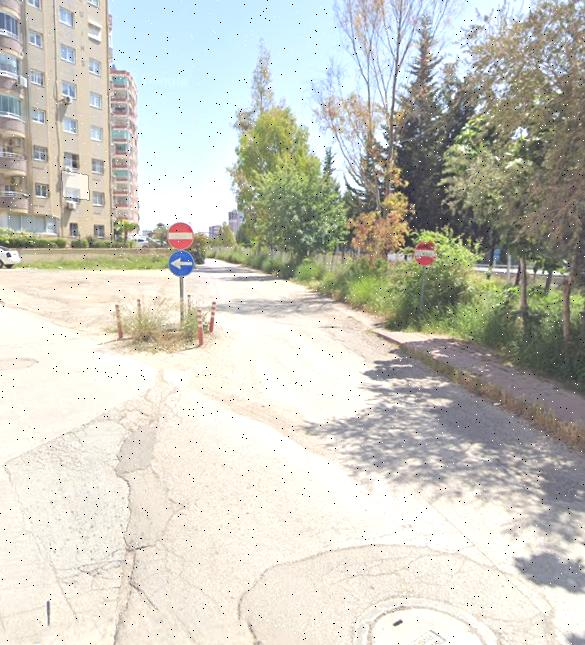turnleft: (167, 252, 194, 278)
